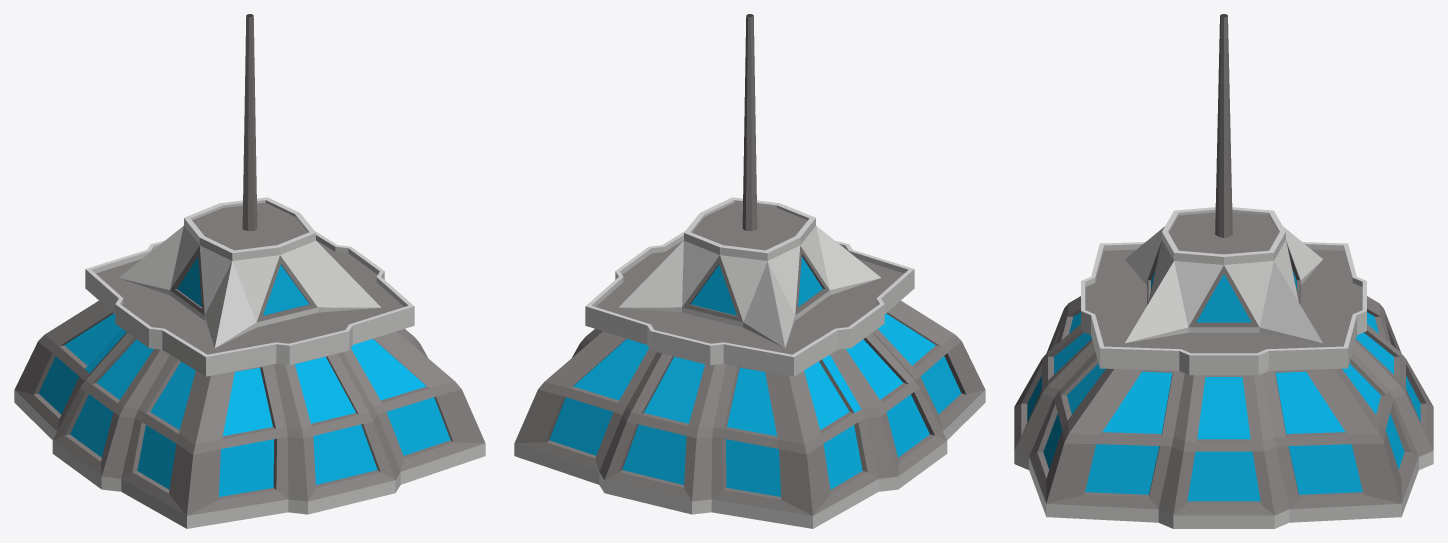
File: Building_13.fbx
3 views of the same model, side by side, from view 1: azimuth 30°, elevation 25°; view 2: azimuth 150°, elevation 25°; view 3: azimuth 270°, elevation 25° (orthographic). The views are drawn at different scales.
Visible parts, largest first — view 1: skyscraper2-part-top; view 2: skyscraper2-part-top; view 3: skyscraper2-part-top.
Boxes of the visible parts, left/top/right/bottom form: skyscraper2-part-top: left=14, top=14, right=485, bottom=528; skyscraper2-part-top: left=514, top=14, right=985, bottom=528; skyscraper2-part-top: left=1014, top=14, right=1433, bottom=528.
Bounding box in the file's own units: 3.5 × 4.01 × 3.57.
